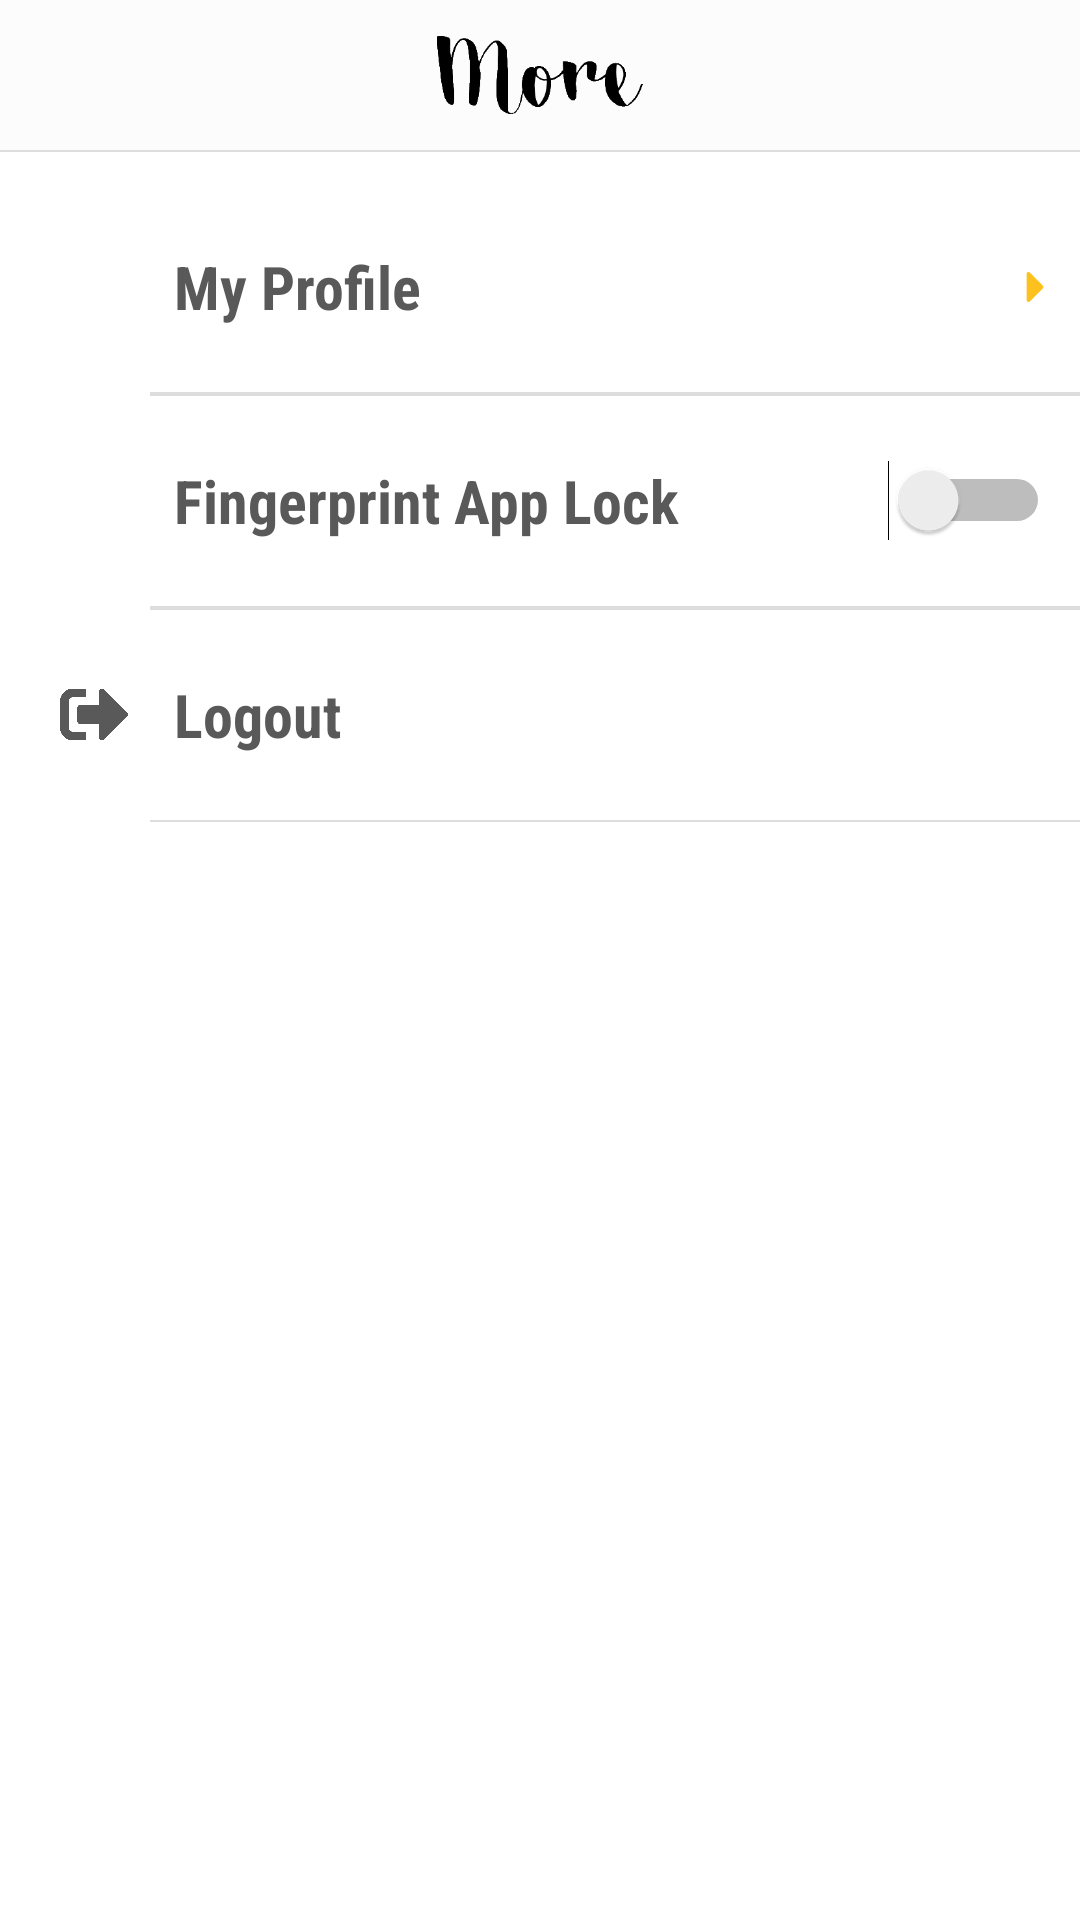

Icon click points for this 1080x1920 phone screenshot, format [x,y]:
arrowright: [1035,287]
